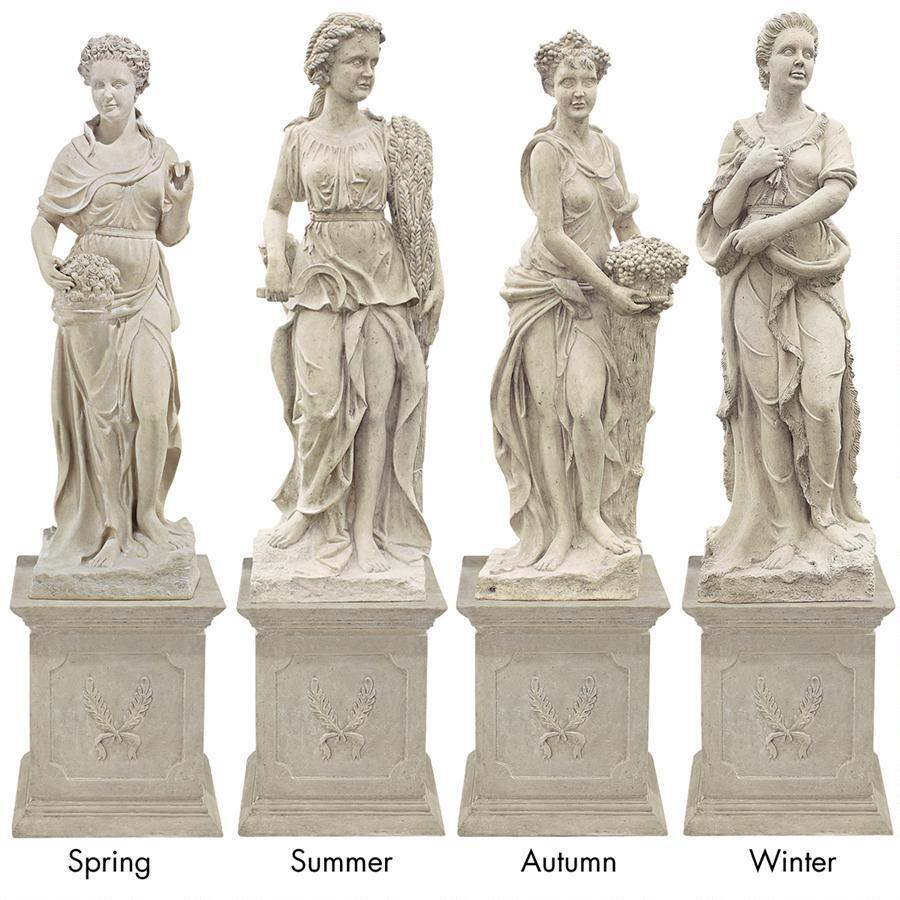person-like: (477, 20, 691, 577), (686, 4, 878, 578), (258, 8, 449, 580), (27, 29, 203, 568)
